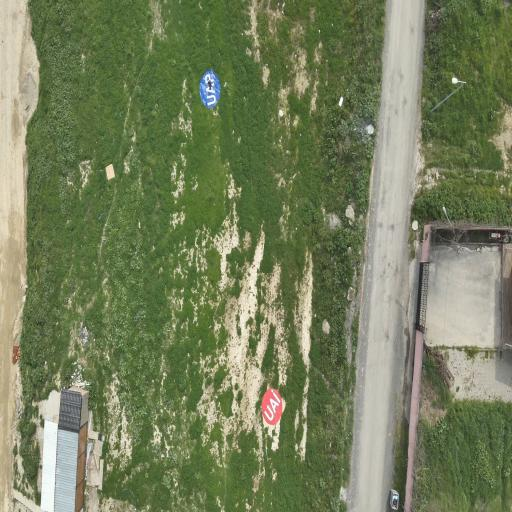UAI: (262, 389, 282, 425)
UAP: (200, 71, 220, 108)
person: (208, 80, 211, 89)
